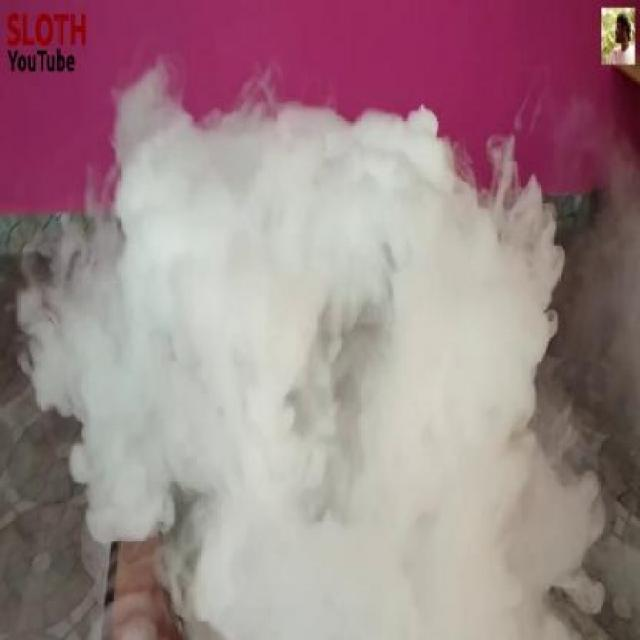smoke: (8, 91, 618, 636)
